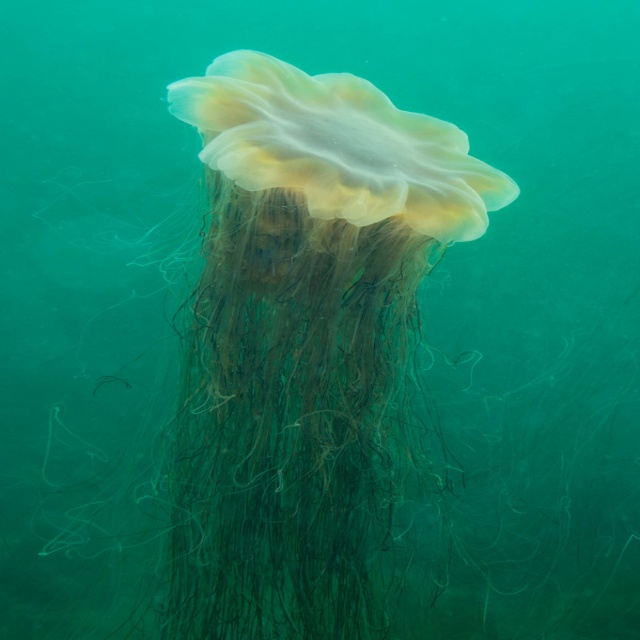Jellyfish: (115, 59, 532, 576)
